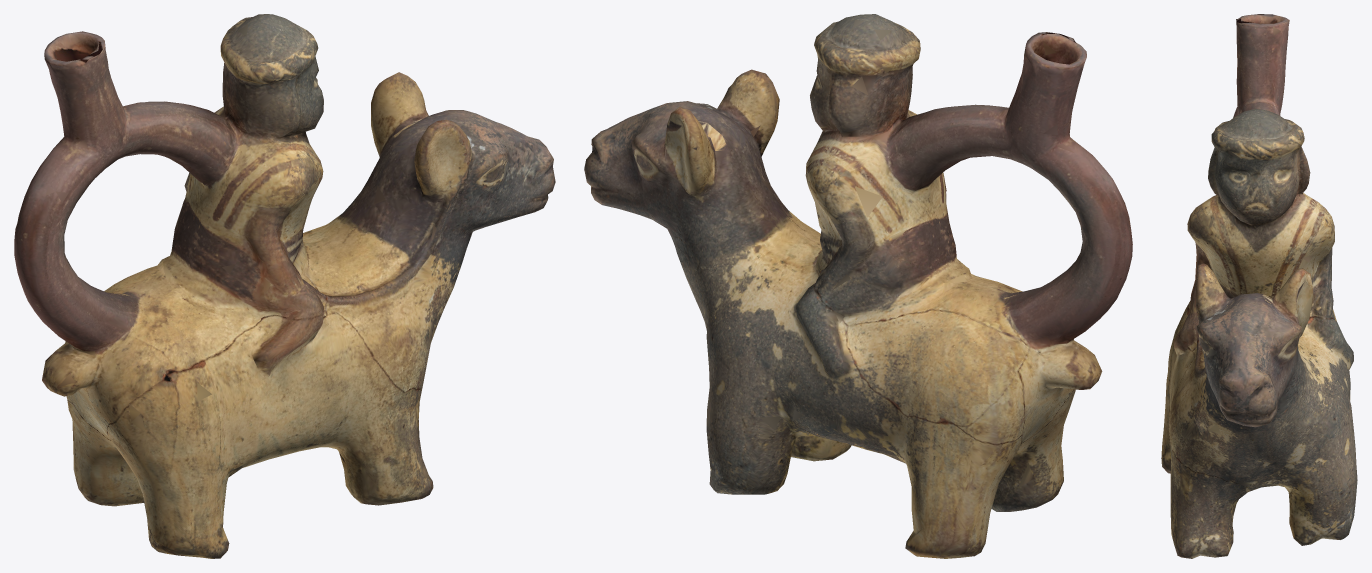
Rendered from objeto-peruano1.glb.
3 views of the same model, side by side, from view 1: azimuth 30°, elevation 25°; view 2: azimuth 150°, elevation 25°; view 3: azimuth 270°, elevation 25° (orthographic). The views are drawn at different scales.
Visible parts, largest first — view 1: Object_2; view 2: Object_2; view 3: Object_2.
Part boxes in pixels (x1,y1,x2,y2): Object_2: (14, 14, 555, 558); Object_2: (584, 14, 1132, 558); Object_2: (1161, 14, 1357, 558).
Size of the model in its own units: 0.2428 by 0.2197 by 0.0915.
1 material, 1 textured.
